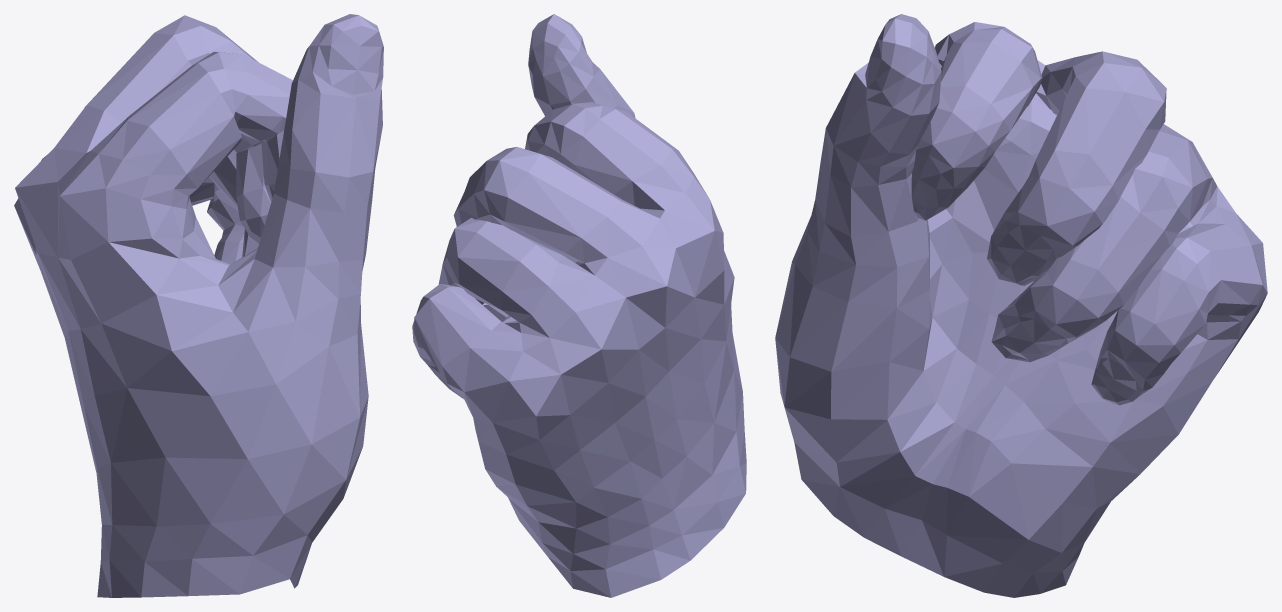
File: frame_0036_source_000036_hand.glb
The picture shows the model from 3 angles, left to right: view 1: azimuth 30°, elevation 25°; view 2: azimuth 150°, elevation 25°; view 3: azimuth 270°, elevation 25°; orthographic projection. The views are drawn at different scales.
Parts seen in each view (by area): view 1: world; view 2: world; view 3: world.
Boxes of the visible parts, x1,y1,x2,y2 form: world: [14, 14, 383, 597]; world: [412, 14, 746, 597]; world: [775, 14, 1267, 597].
Size of the model in its own units: 0.0622 by 0.1254 by 0.0903.
